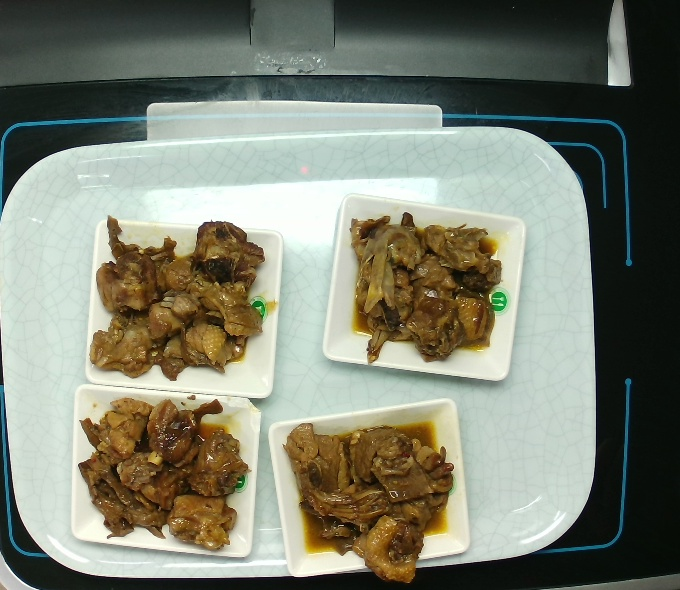wcq-HongShaoJi: (78, 196, 278, 379), (75, 393, 260, 563), (280, 418, 460, 585), (335, 196, 505, 371)
